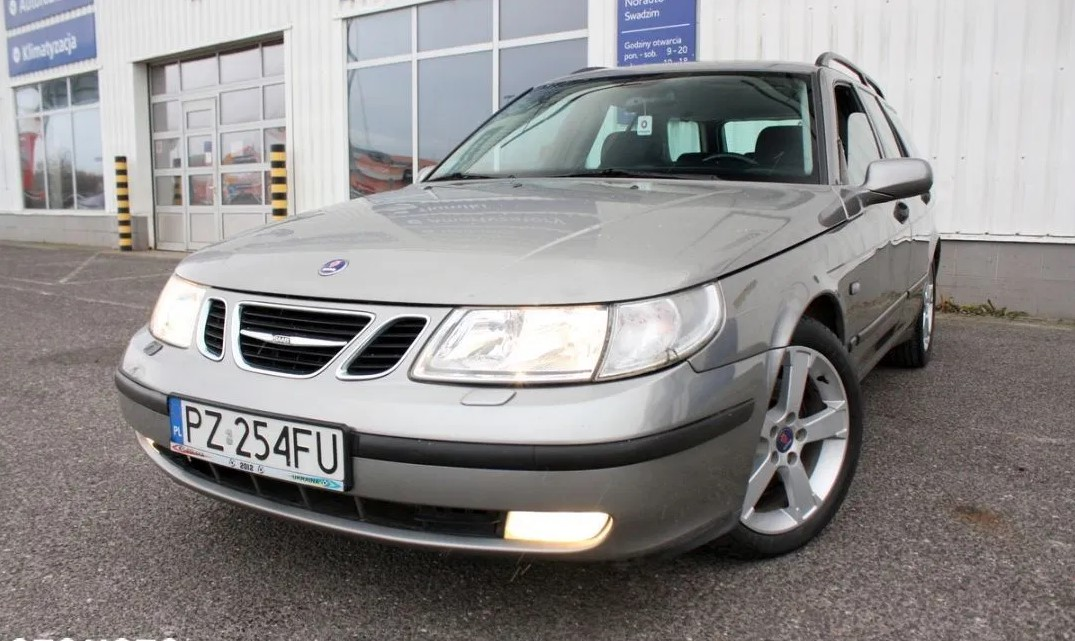number_plate: (145, 389, 376, 504)
